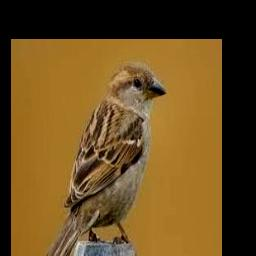Sparrow: (39, 62, 167, 256)
